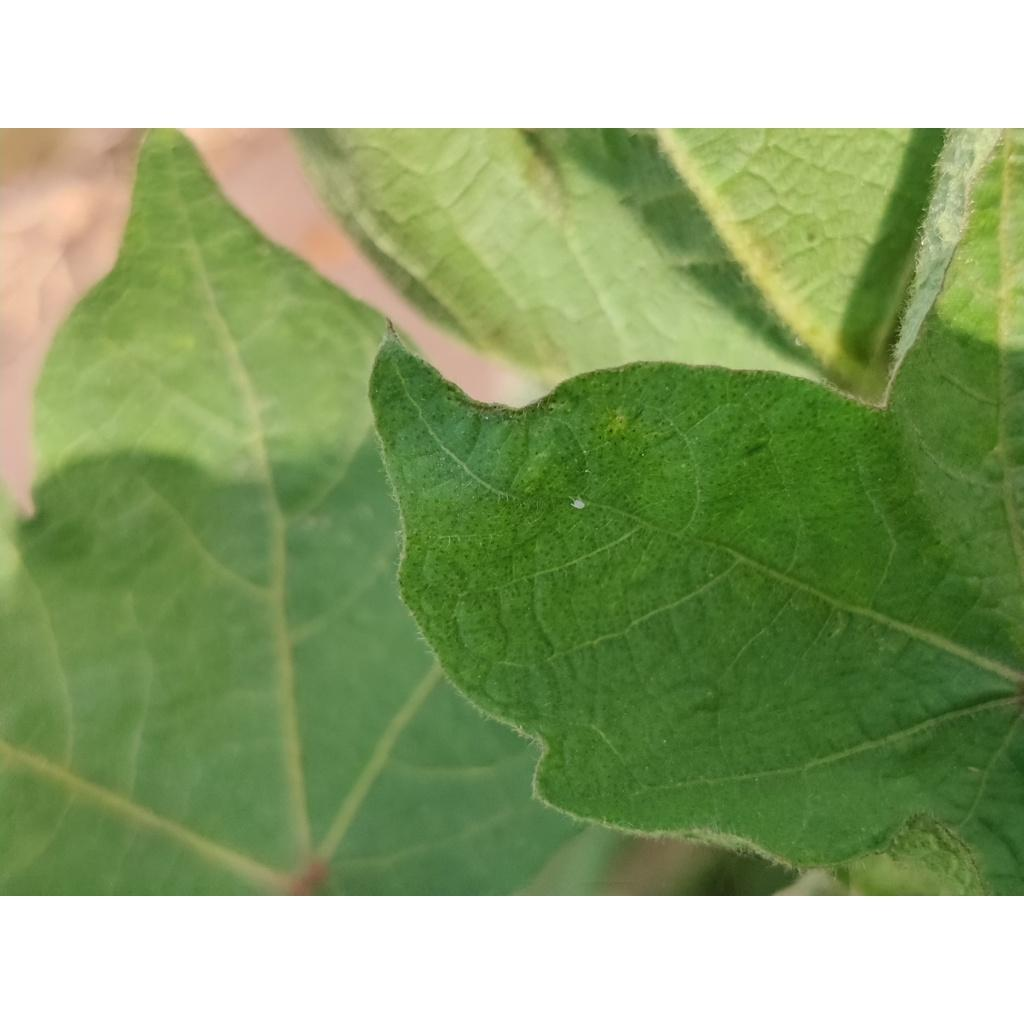adult: (571, 497, 585, 509), (966, 766, 981, 773)
